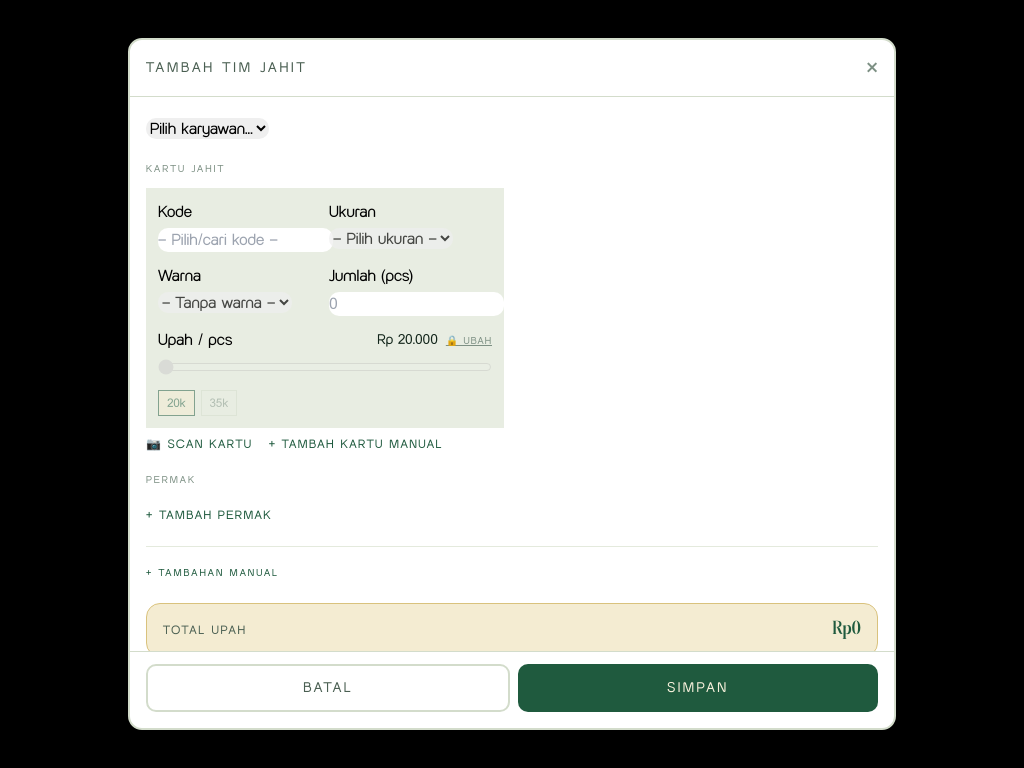
Scenario: JahitForm — auto-pilih ukuran kalau produk cuma punya 1 size (permintaan Denny 2026-08) › re-resets ukuran to empty when switching from a 1-size kode to a multi-size kode
The image size is (1024, 768).
Type "D-02-SATU" into the field with test id "kode-input-0".
click(246, 240); type("D-02-SATU")  # box [158, 228, 333, 252]
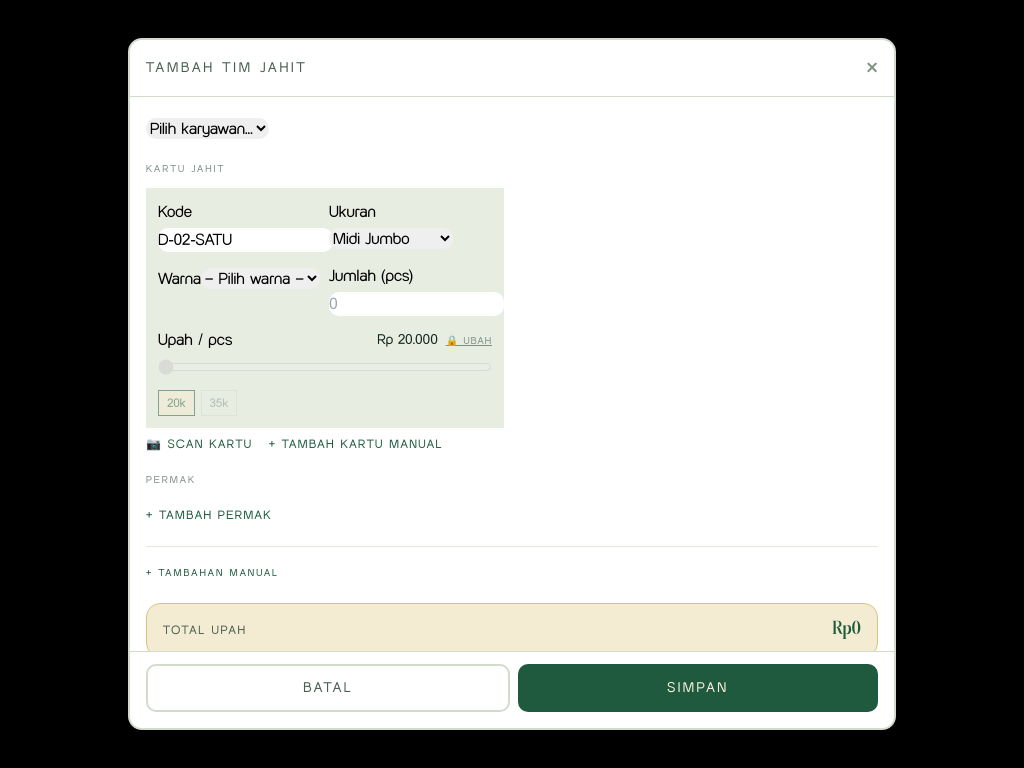
expect the dropdown below "Ukuran" shows "Midi Jumbo": met, box [329, 228, 453, 249]
Replace the text in the field with test id "kode-input-0" with "D-01-OSK" at point(246, 240), box [158, 228, 333, 252]
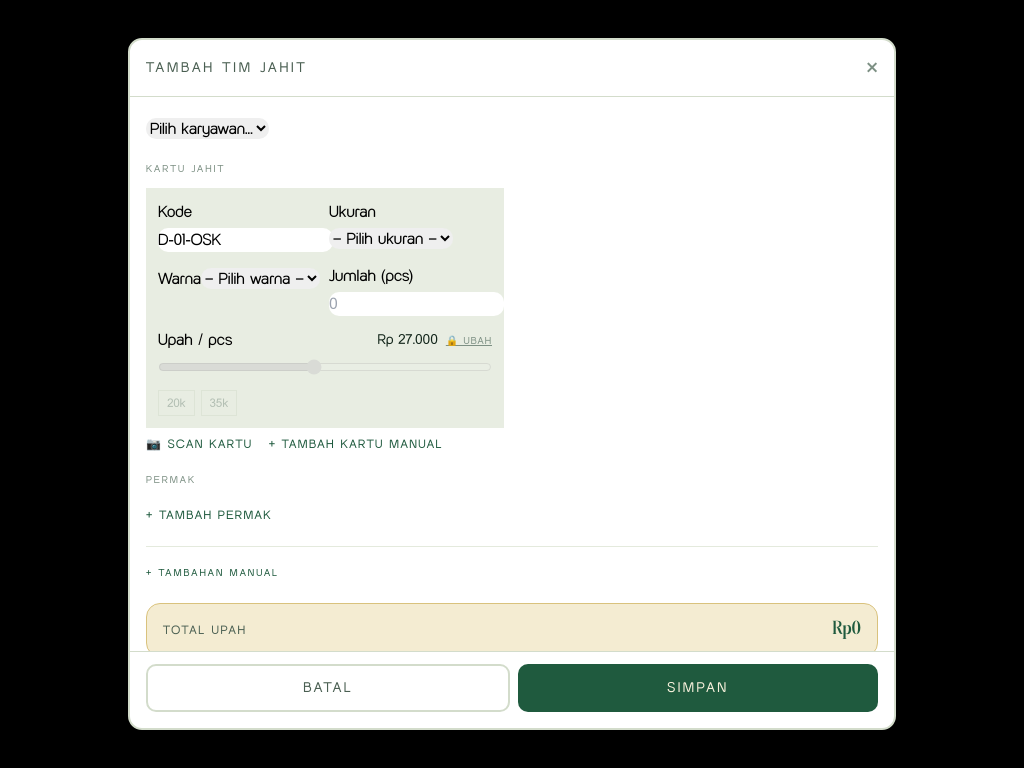
expect the dropdown below "Ukuran" shows "— Pilih ukuran —": met, box [329, 228, 453, 249]
